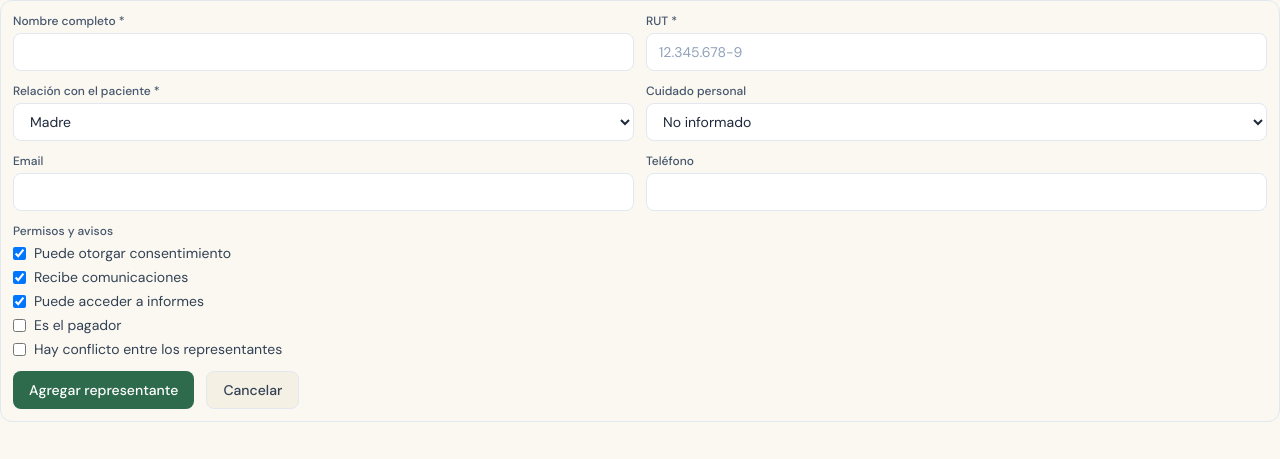
GuardianForm › exige nombre y RUT antes de enviar
Click the button "Agregar representante". click: (104, 390)
box: top-left (13, 371), bottom-right (194, 409)
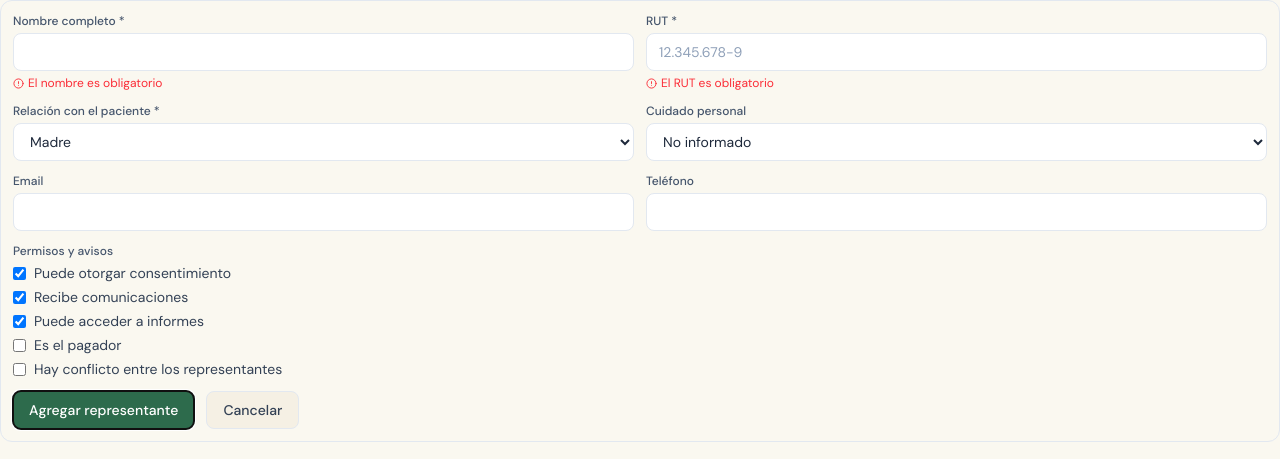
Now the text "El nombre es obligatorio" is shown, box top-left (13, 75), bottom-right (162, 91)
Now the text "El RUT es obligatorio" is shown, box top-left (646, 75), bottom-right (774, 91)
